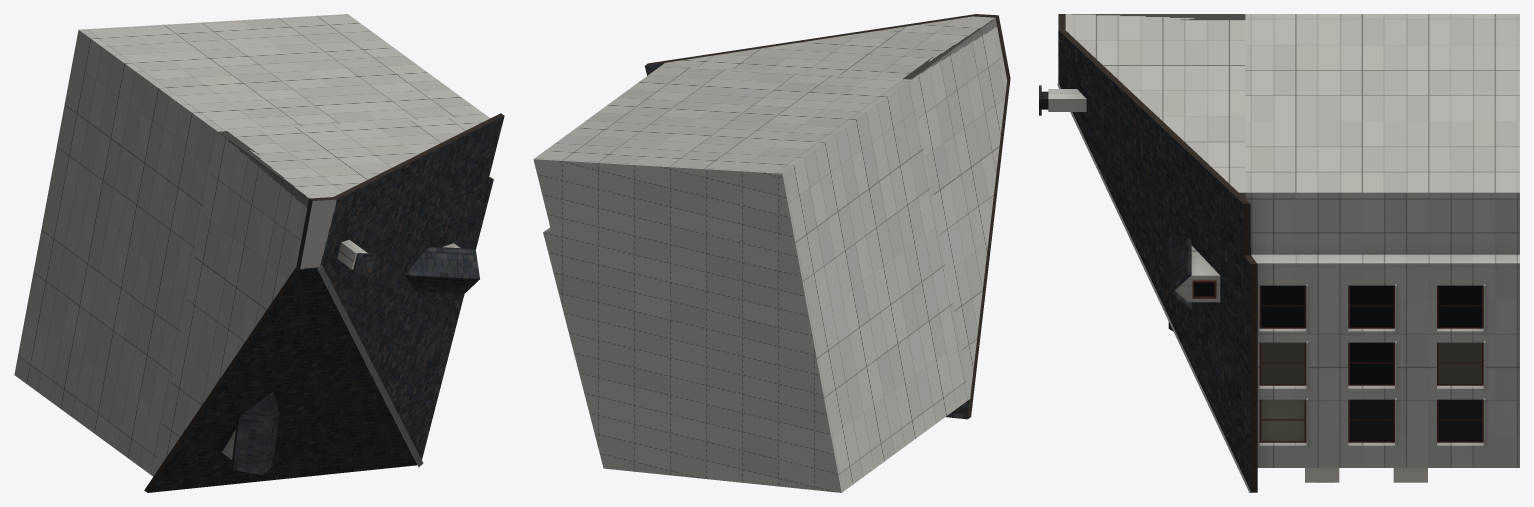
File: house_b0244.obj
3 renders of one model, left to right at view 1: azimuth 30°, elevation 25°; view 2: azimuth 150°, elevation 25°; view 3: azimuth 270°, elevation 25°, orthographic. The views are drawn at different scales.
Parts seen in each view (by area): view 1: house_b0244; view 2: house_b0244; view 3: house_b0244.
Part boxes in pixels (left/top/right/bottom): house_b0244: left=14, top=14, right=504, bottom=492; house_b0244: left=533, top=14, right=1010, bottom=492; house_b0244: left=1039, top=14, right=1519, bottom=492.
Bounding box in the file's own units: 13.6 × 14.41 × 16.27.
1 material, 1 textured.
